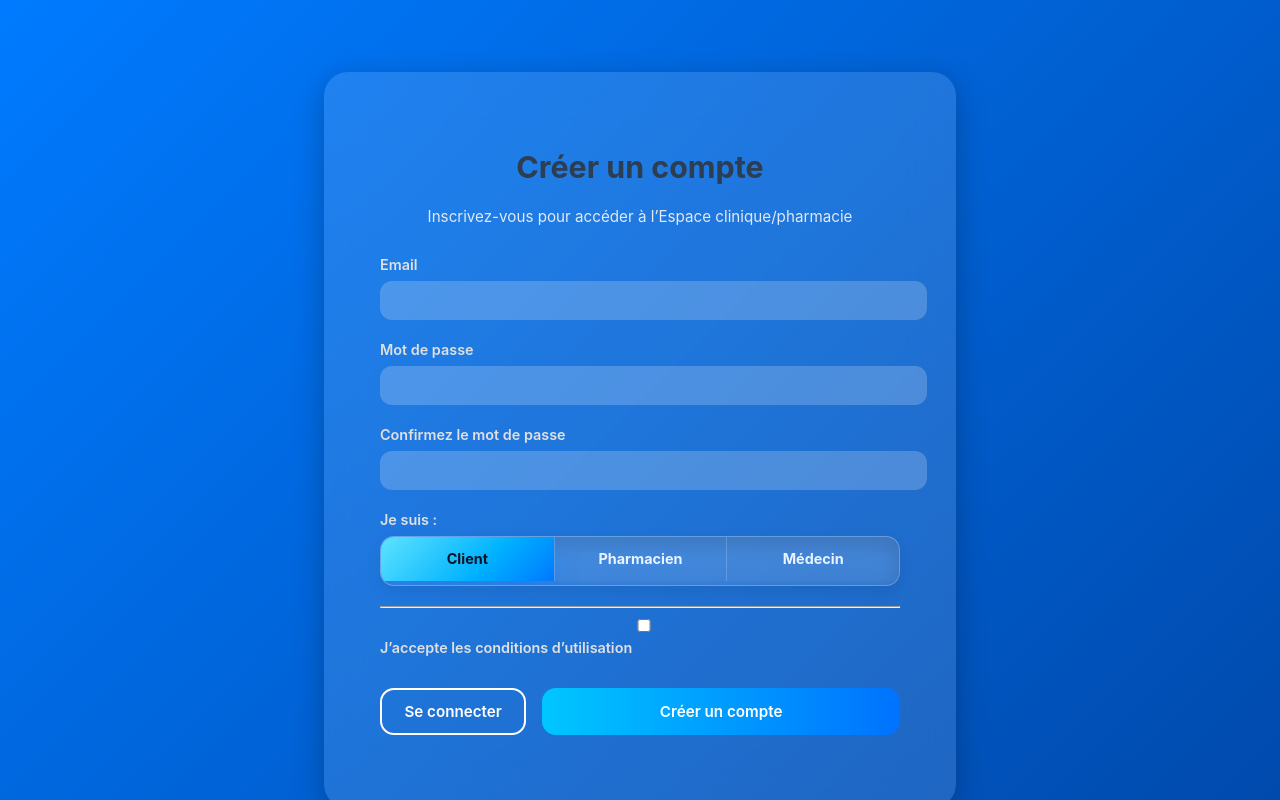
Test case: Signup page › affiche une erreur si les mots de passe ne correspondent pas
The width and height of the screenshot is (1280, 800).
In the field labelled "Email": (654, 300) [380, 281, 927, 320], type "test@test.com"
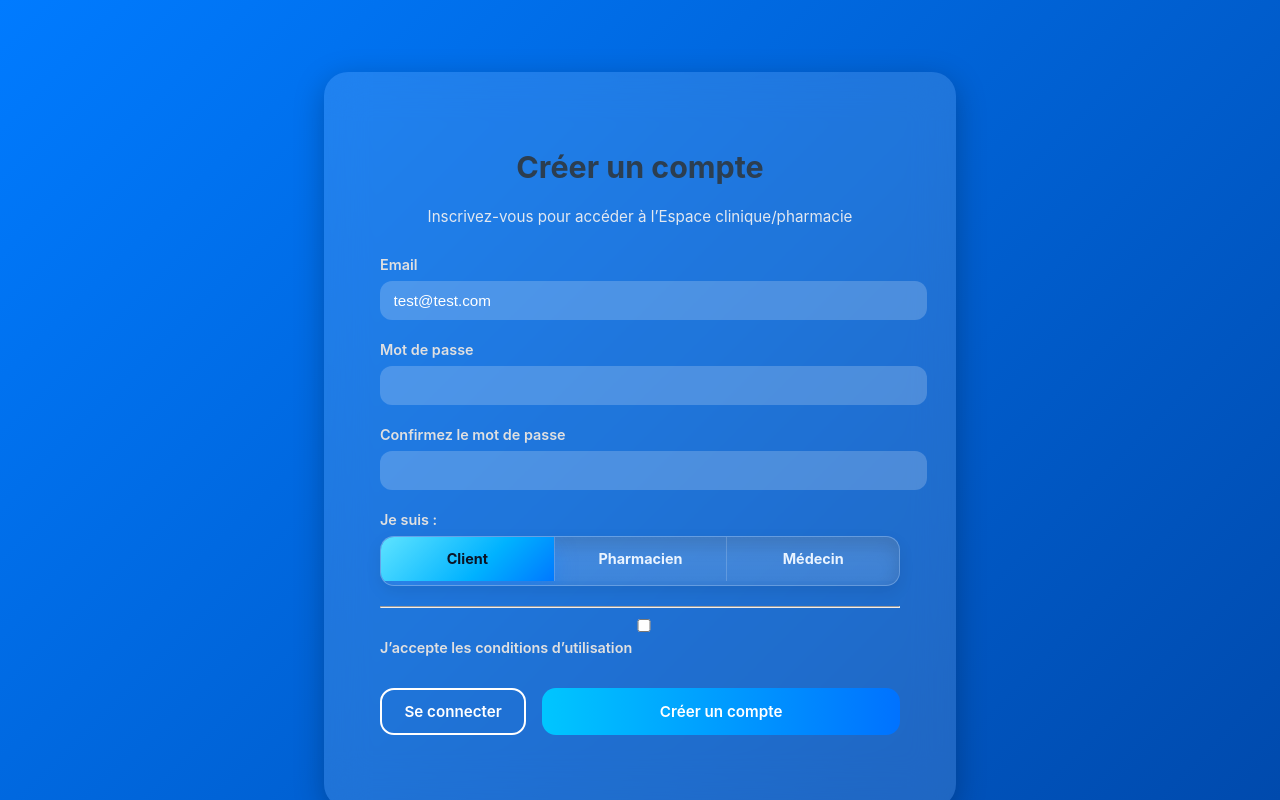
In the password field labelled "Mot de passe": (654, 385) [380, 366, 927, 405], type "123456"
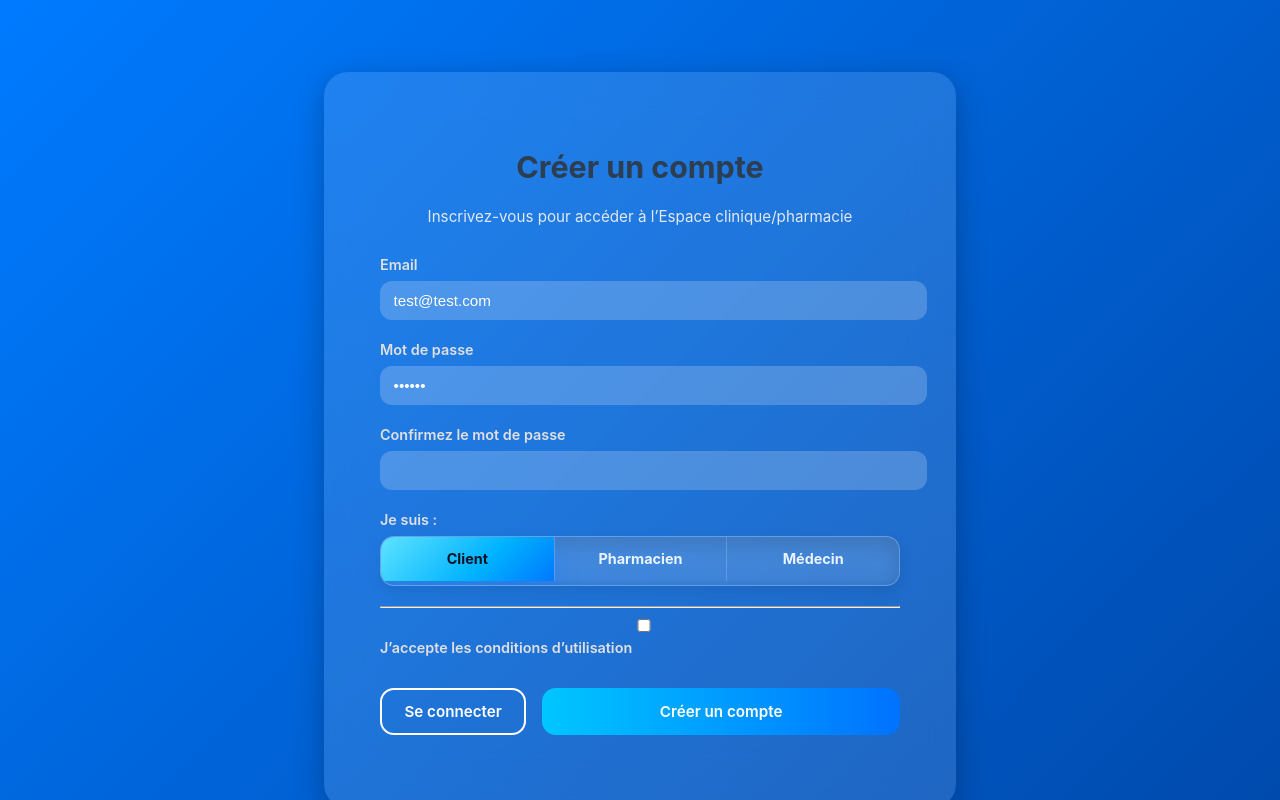
In the password field labelled "Confirmez le mot de passe": (654, 470) [380, 451, 927, 490], type "abcdef"
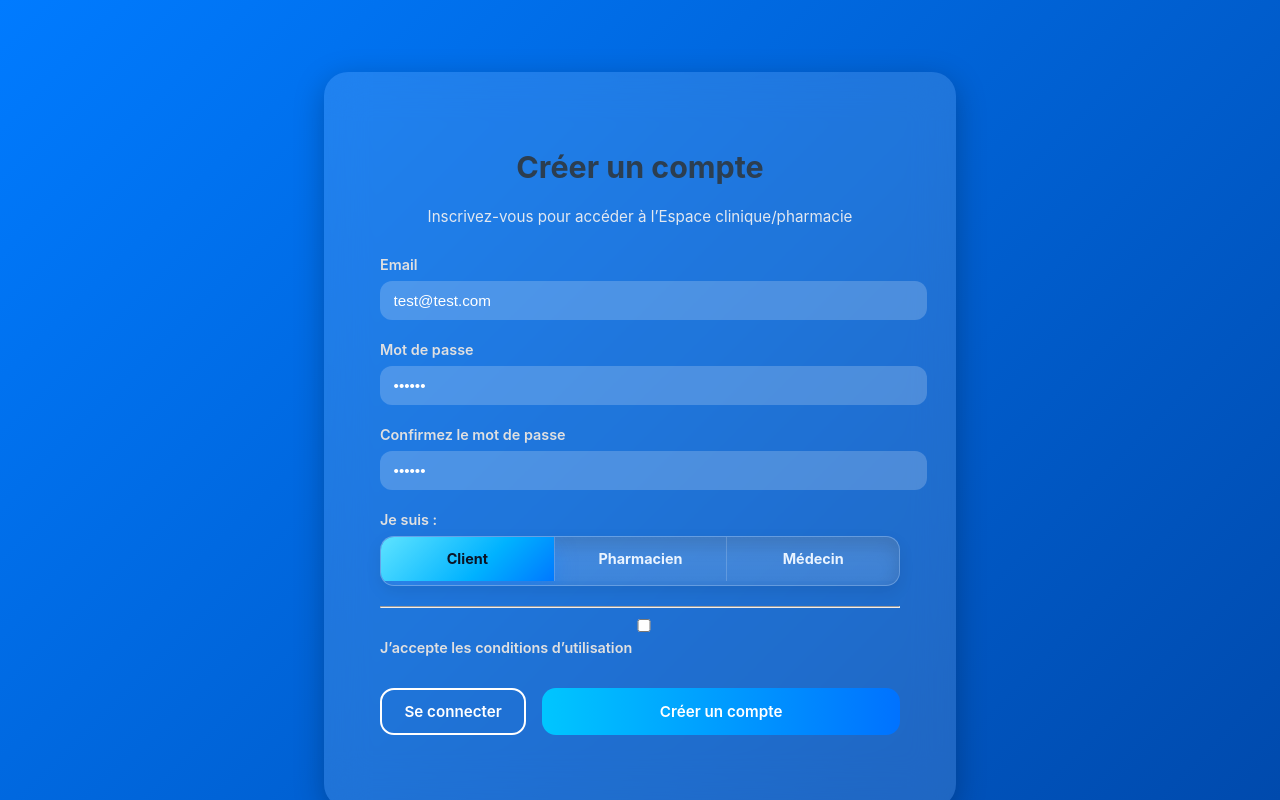
Click the checkbox labelled "J’accepte les conditions d’utilisation": (644, 625) [384, 618, 904, 632]
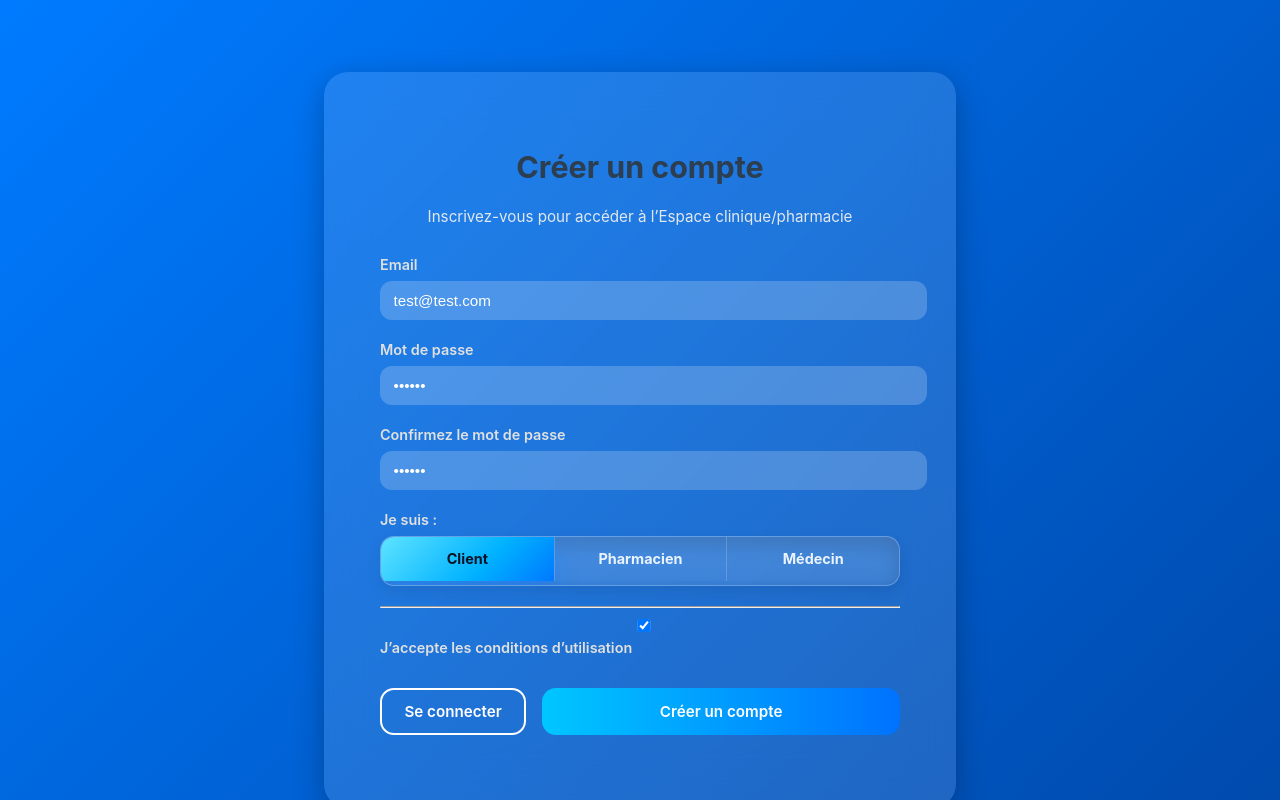
Click the button "Créer un compte": (721, 711) [542, 688, 900, 734]
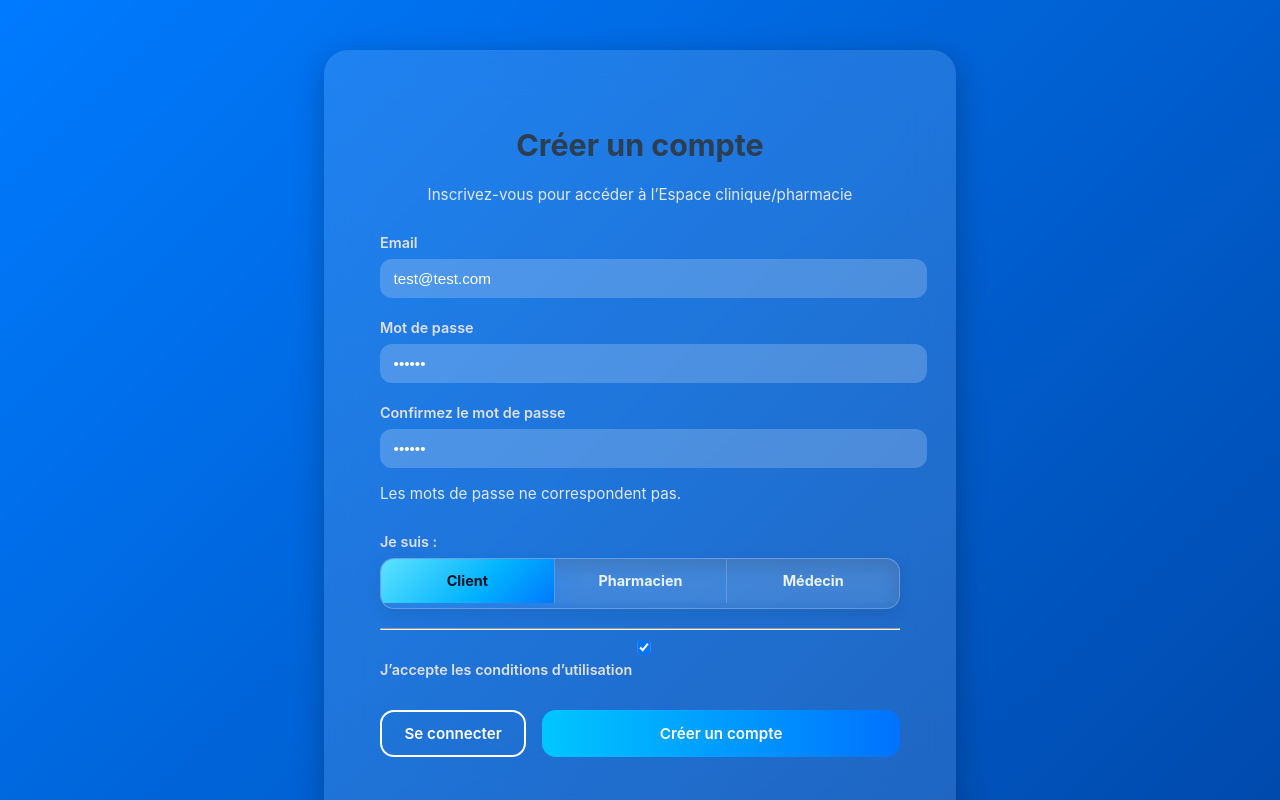
Expected: the text "Les mots de passe ne correspondent pas." is shown, [380, 484, 681, 503]
